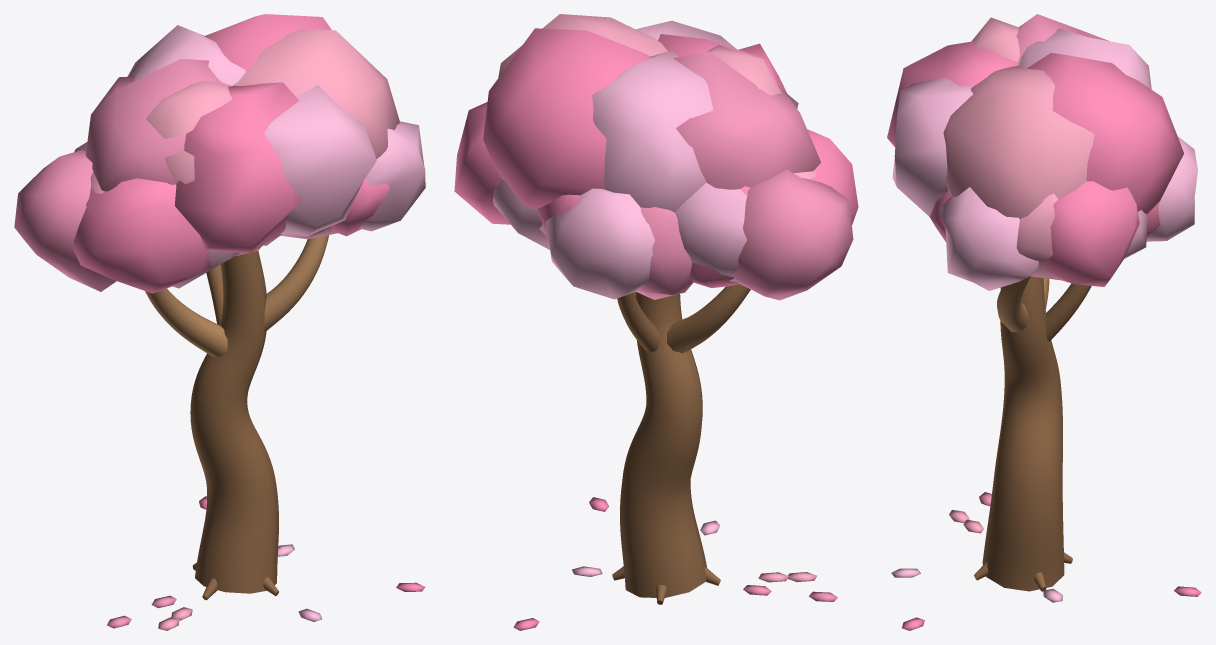
Rendered from blossom_tree.glb.
3 views of the same model, side by side, from view 1: azimuth 30°, elevation 25°; view 2: azimuth 150°, elevation 25°; view 3: azimuth 270°, elevation 25° (orthographic). The views are drawn at different scales.
Parts seen in each view (by area): view 1: blossom_tree; view 2: blossom_tree; view 3: blossom_tree.
Boxes of the visible parts, left/top/right/bottom form: blossom_tree: left=14, top=14, right=425, bottom=630; blossom_tree: left=454, top=14, right=858, bottom=630; blossom_tree: left=887, top=14, right=1201, bottom=630.
Size of the model in its own units: 0.8885 by 1.27 by 0.6671.
